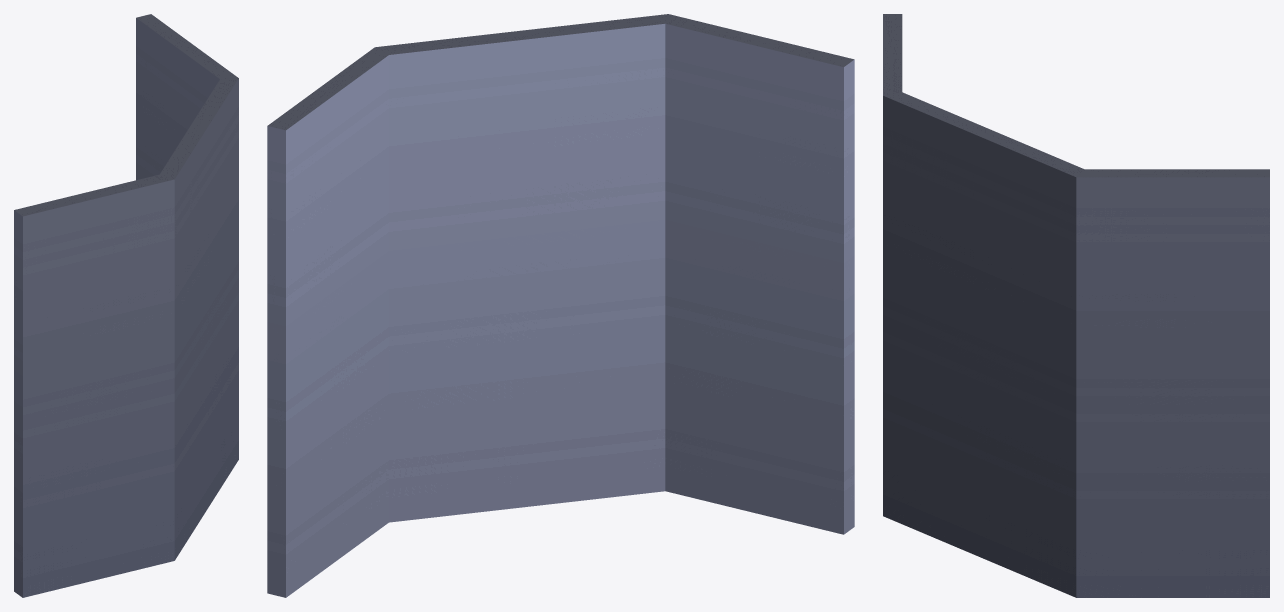
File: wall-corner-diagonal.glb
3 renders of one model, left to right at view 1: azimuth 30°, elevation 25°; view 2: azimuth 150°, elevation 25°; view 3: azimuth 270°, elevation 25°, orthographic. The views are drawn at different scales.
Visible parts, largest first — view 1: wall-corner-diagonal; view 2: wall-corner-diagonal; view 3: wall-corner-diagonal.
Boxes of the visible parts, box(x1,y1,x2,y2) form: wall-corner-diagonal: box(14, 14, 238, 597); wall-corner-diagonal: box(267, 14, 854, 597); wall-corner-diagonal: box(883, 14, 1269, 597).
Size of the model in its own units: 2 by 2.4 by 2.
Materials: 1 (1 with a texture image).
